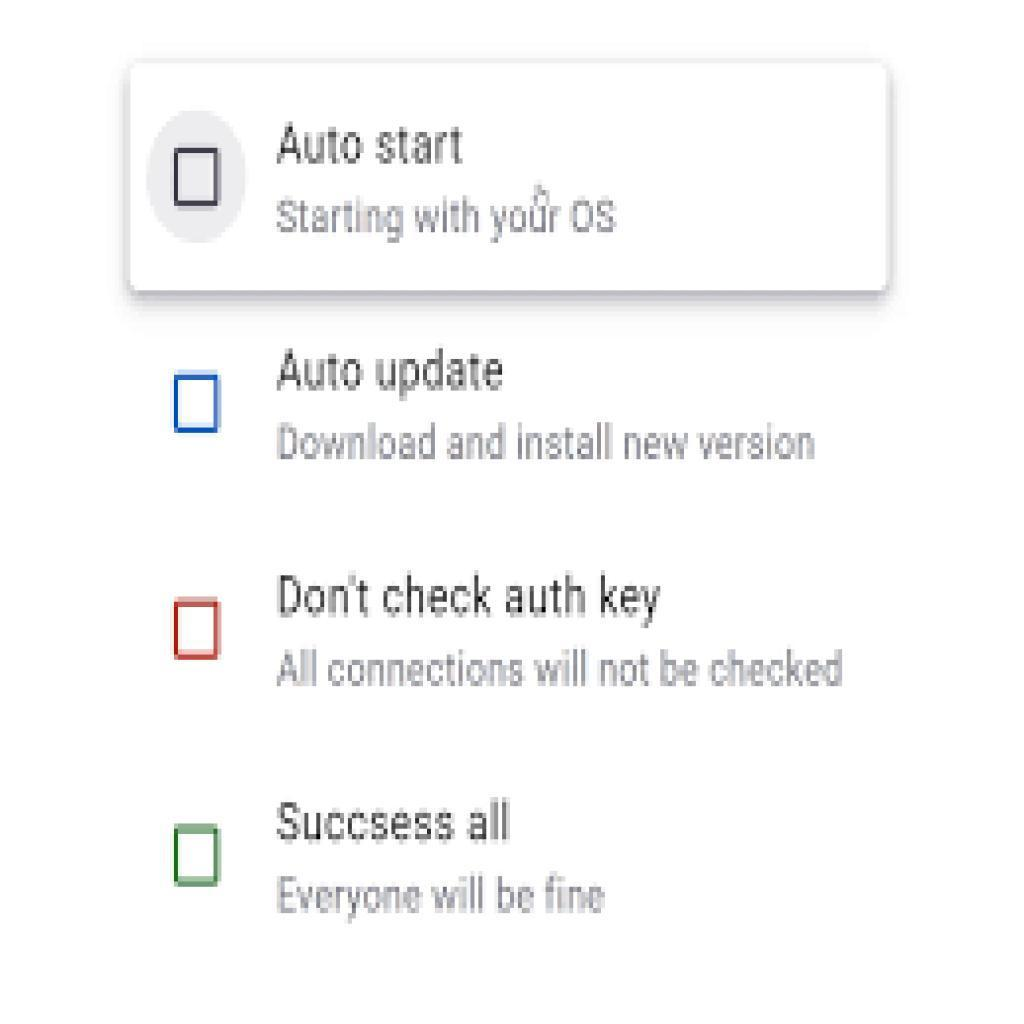checkbox: (176, 824, 221, 886), (174, 377, 221, 434), (177, 601, 220, 661), (174, 153, 217, 206)
label: (271, 567, 851, 695), (276, 343, 816, 472), (271, 121, 630, 247), (270, 794, 615, 918)
